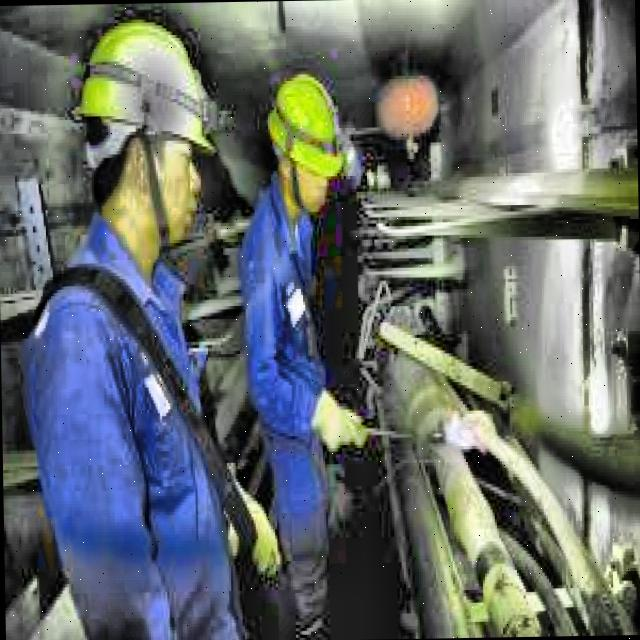helmet: (74, 9, 204, 248), (268, 73, 348, 218)
